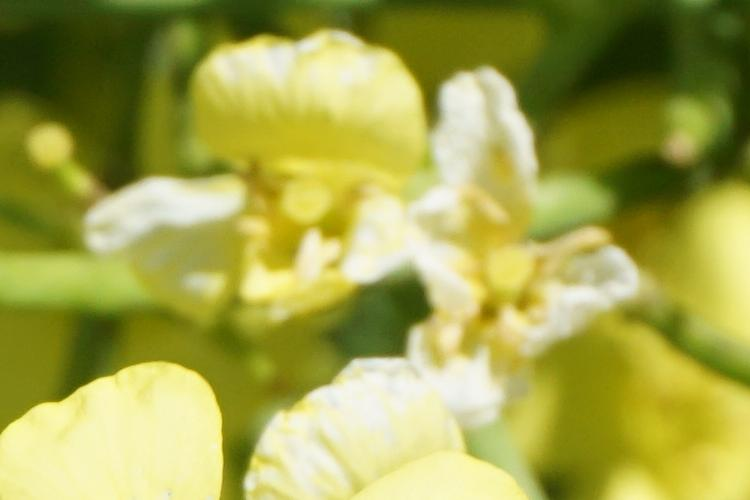white: (373, 102, 645, 339)
yellow: (18, 330, 503, 500), (100, 48, 415, 301)
